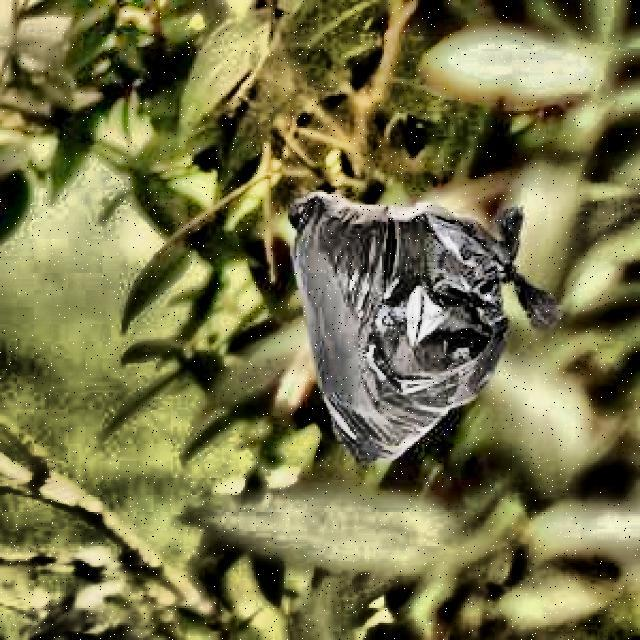Trashbag: (288, 195, 505, 447)
